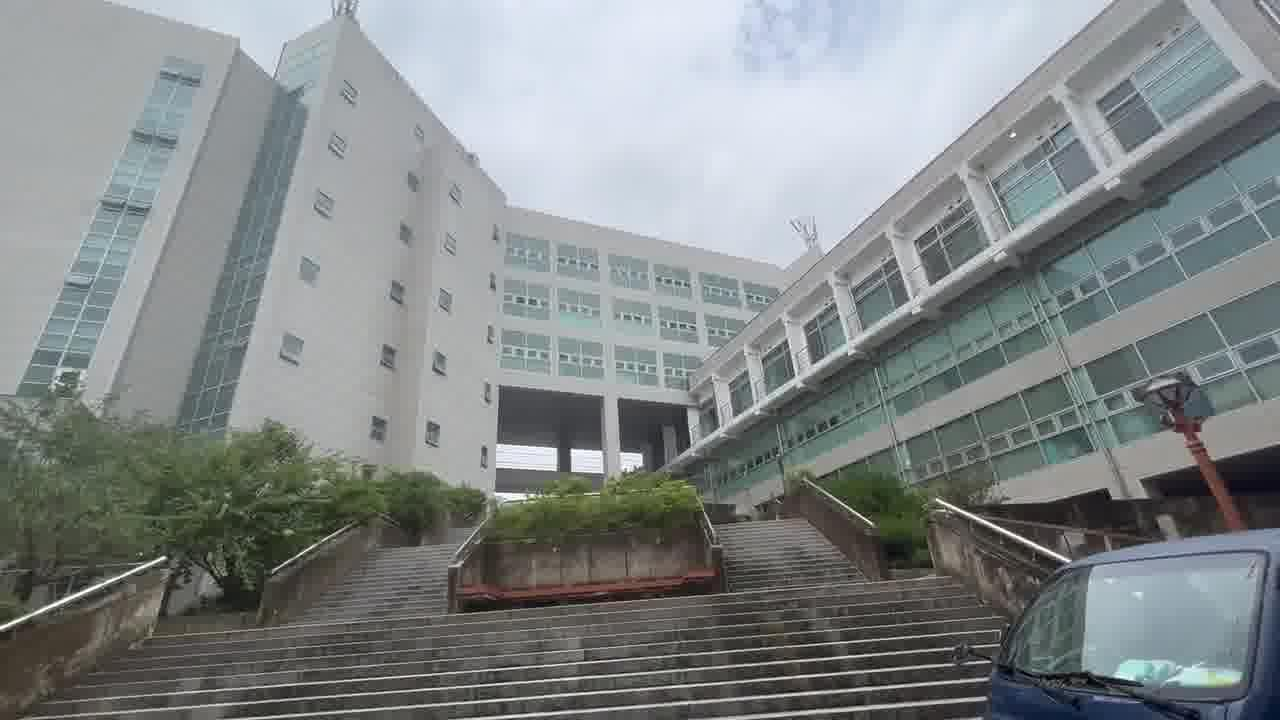building: (56, 38, 857, 456)
